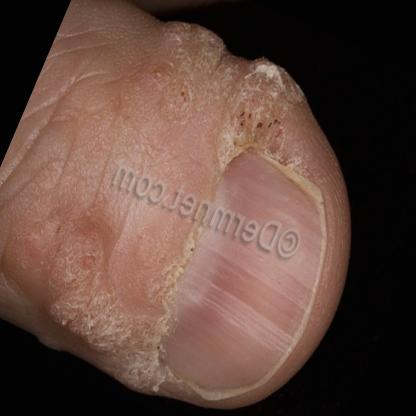Warts: (21, 203, 172, 373), (196, 31, 330, 196)
